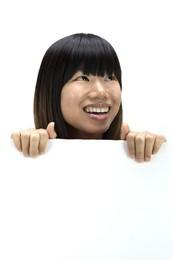face: (57, 66, 121, 134)
